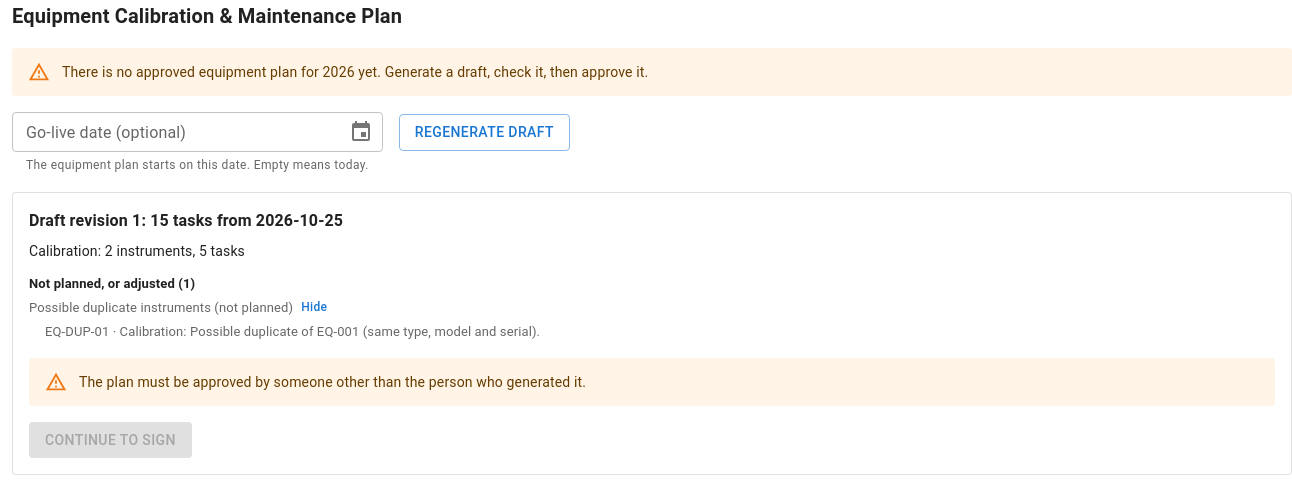
Test: EquipmentPlanPanel › renders PossibleDuplicate group labeled 'Possible duplicate instruments (not planned)' expanded by default
Expected: the text "Possible duplicate instruments (not planned)" is shown, [29,298,293,318]
Expected: the text "EQ-DUP-01 · Calibration: Possible duplicate of EQ-001 (same type, model and serial)." is shown, [45,324,540,339]
# Has a Hide button
Click the button "Hide": x=314, y=308 [301,297,327,318]
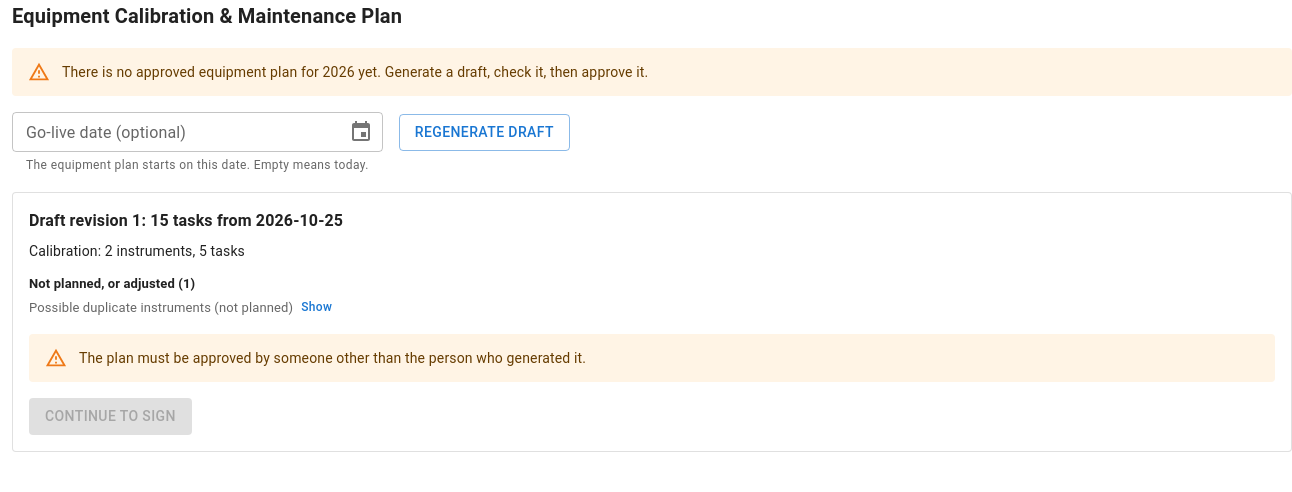
Expected: the text "EQ-DUP-01 · Calibration: Possible duplicate of EQ-001 (same type, model and serial)." is gone
Expected: the button "Show" is shown, [301,297,332,318]
